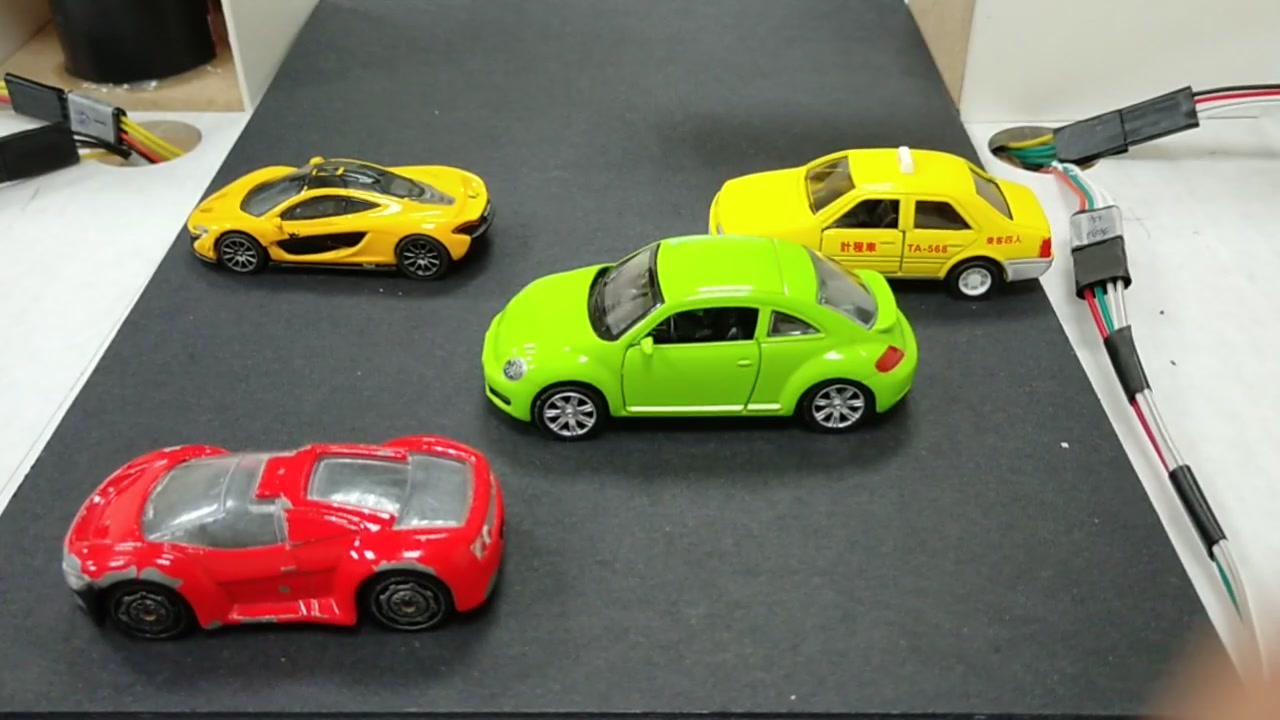car: (471, 235, 921, 426), (58, 454, 497, 637), (718, 146, 1054, 289), (192, 156, 489, 269)
